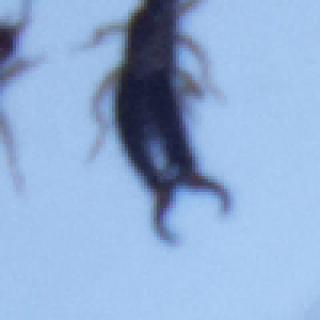earwig: (79, 0, 237, 248)
